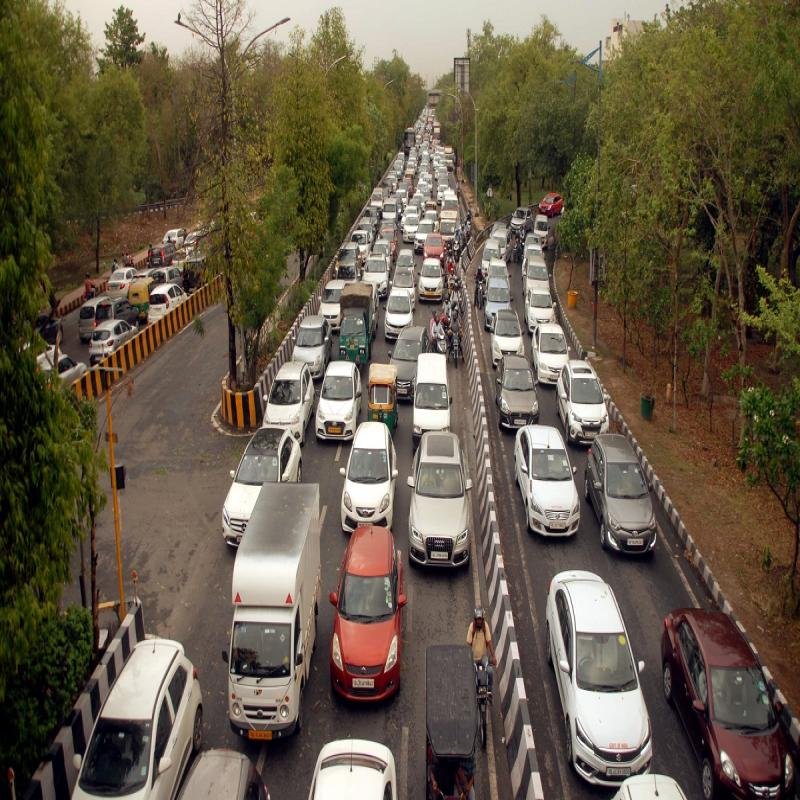auto: (367, 356, 396, 417)
car: (542, 568, 648, 757), (670, 603, 775, 780), (342, 540, 410, 691), (589, 435, 656, 556), (522, 431, 586, 539), (411, 443, 472, 549), (348, 435, 393, 536), (235, 433, 279, 516), (566, 358, 611, 434), (498, 362, 539, 437), (319, 364, 358, 442), (269, 360, 309, 430), (529, 318, 568, 380), (498, 309, 532, 372), (486, 265, 518, 329), (387, 283, 407, 345)
